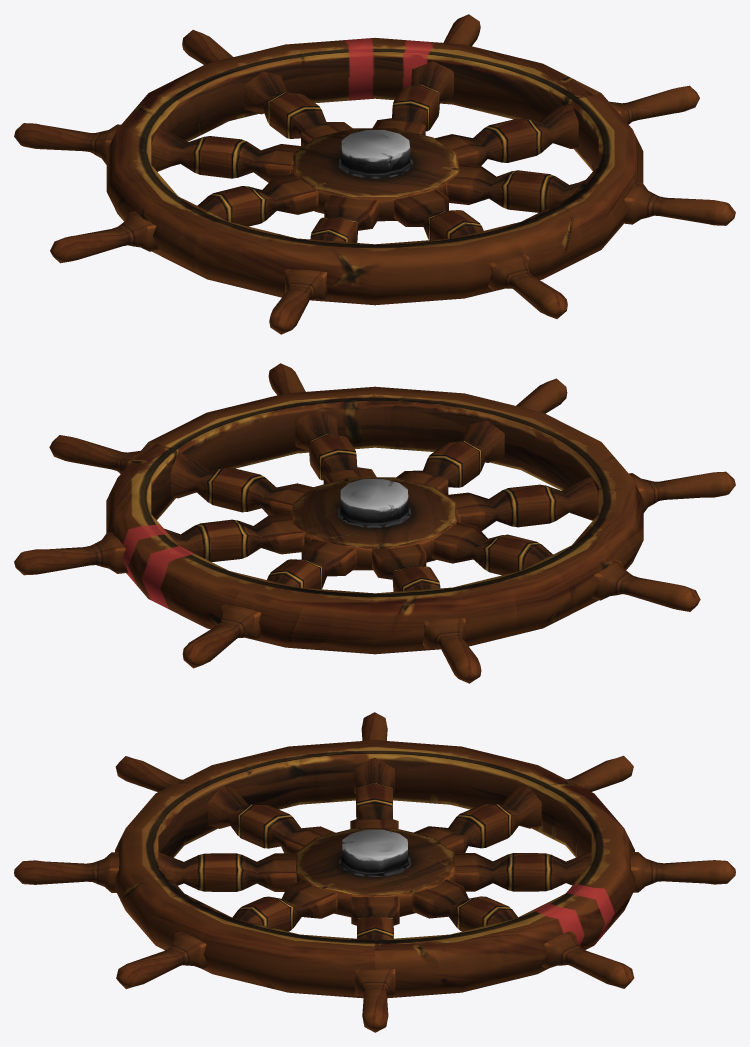
The model's file is Schiffsruder.FBX.
3 views of the same model, one above another, from view 1: azimuth 30°, elevation 25°; view 2: azimuth 150°, elevation 25°; view 3: azimuth 270°, elevation 25° (orthographic). The views are drawn at different scales.
Parts seen in each view (by area): view 1: Object007; view 2: Object007; view 3: Object007.
Part boxes in pixels (x1,y1,x2,y2): Object007: (14, 14, 735, 334); Object007: (14, 363, 735, 683); Object007: (14, 712, 735, 1032).
Size of the model in its own units: 69.87 by 69.87 by 6.31.
